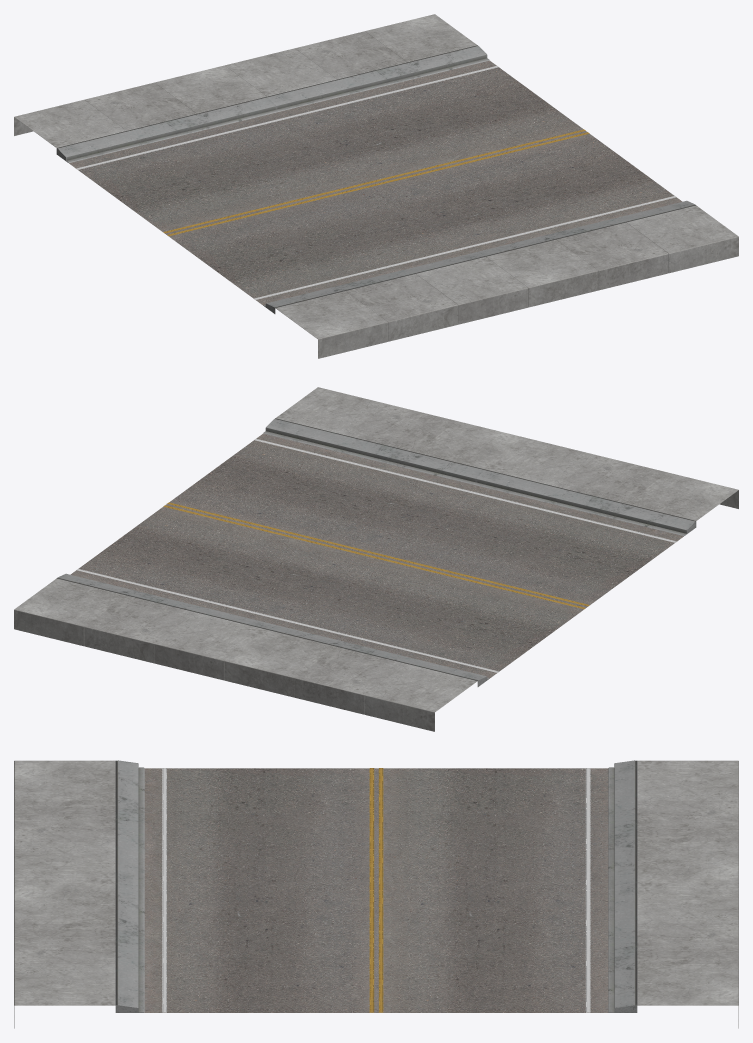
Rendered from Road_2L_VarC.fbx.
3 renders of one model, top to bottom at view 1: azimuth 30°, elevation 25°; view 2: azimuth 150°, elevation 25°; view 3: azimuth 270°, elevation 25°, orthographic. The views are drawn at different scales.
Visible parts, largest first — view 1: Road_2L_VarC_LOD0; view 2: Road_2L_VarC_LOD0; view 3: Road_2L_VarC_LOD0.
Boxes of the visible parts, <box> form: Road_2L_VarC_LOD0: <box>14,14,738,358</box>; Road_2L_VarC_LOD0: <box>14,387,738,731</box>; Road_2L_VarC_LOD0: <box>14,760,738,1028</box>.
Size of what is drawn, in the model's own units: 1000 by 44.83 by 1251.
